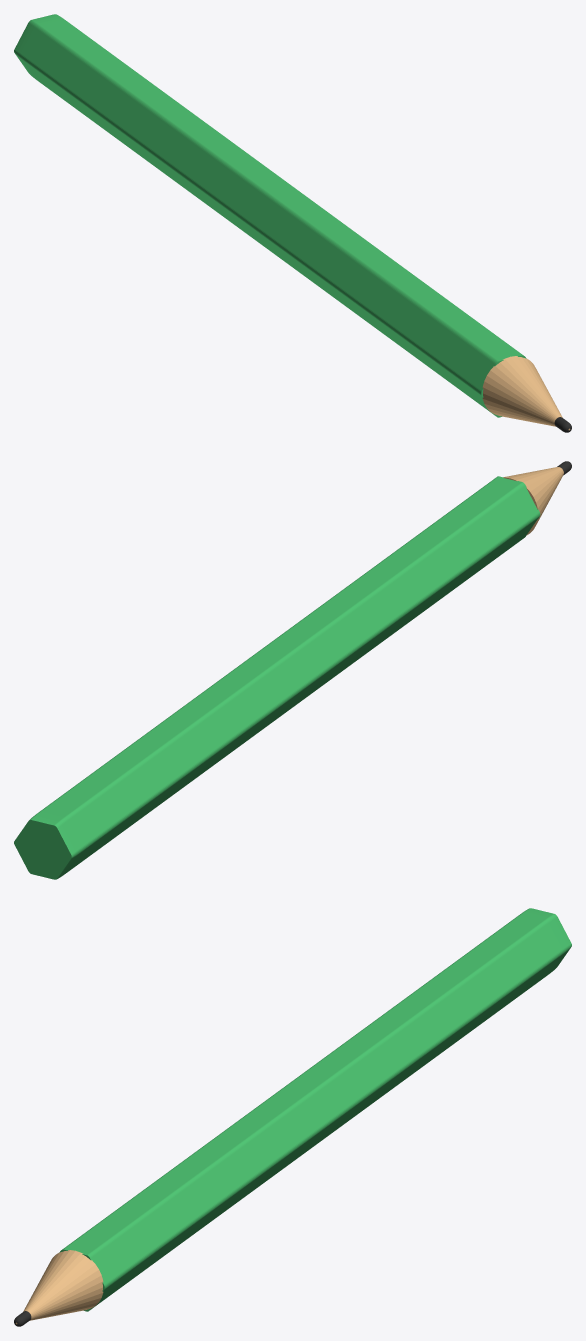
The model's file is Pen.fbx.
3 renders of one model, top to bottom at view 1: azimuth 30°, elevation 25°; view 2: azimuth 150°, elevation 25°; view 3: azimuth 330°, elevation 25°, orthographic.
Visible parts, largest first — view 1: 立方体, 円柱; view 2: 立方体, 円柱; view 3: 立方体, 円柱.
Boxes of the visible parts, x1,y1,x2,y2 form: 立方体: [14, 14, 526, 417]; 円柱: [482, 356, 571, 432]; 立方体: [14, 476, 540, 879]; 円柱: [503, 461, 571, 535]; 立方体: [59, 908, 571, 1311]; 円柱: [14, 1250, 103, 1326].
Bounding box in the file's own units: 2.19 × 2.09 × 33.86.
